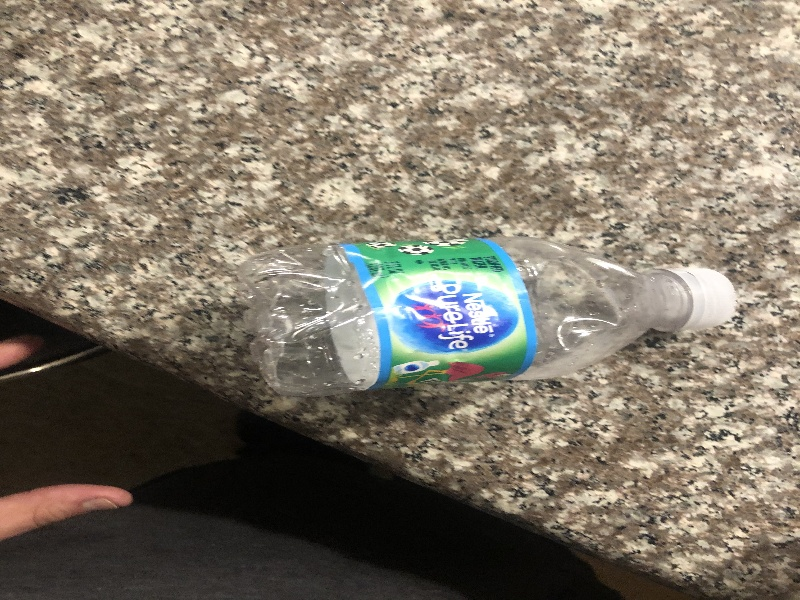plastic: (230, 225, 742, 406)
